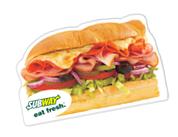soup: (19, 22, 160, 116)
